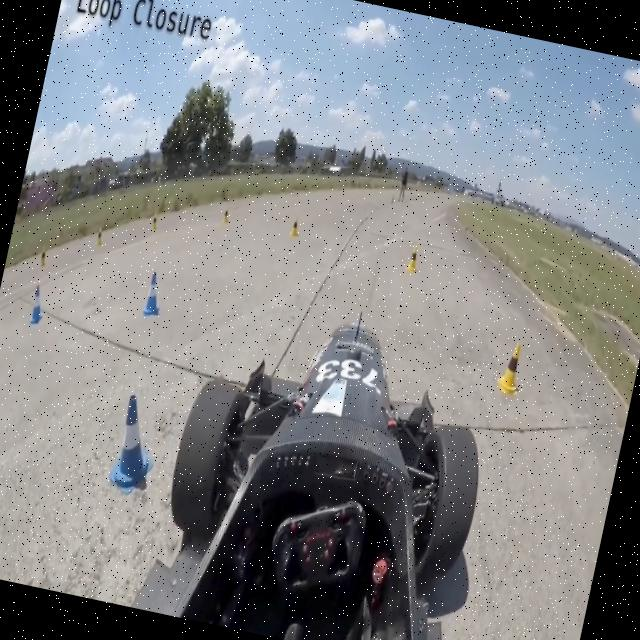blue_cone: (95, 382, 168, 502), (136, 264, 170, 320), (24, 275, 52, 332)
yellow_cone: (488, 331, 532, 406), (401, 244, 421, 274), (284, 212, 302, 245)
